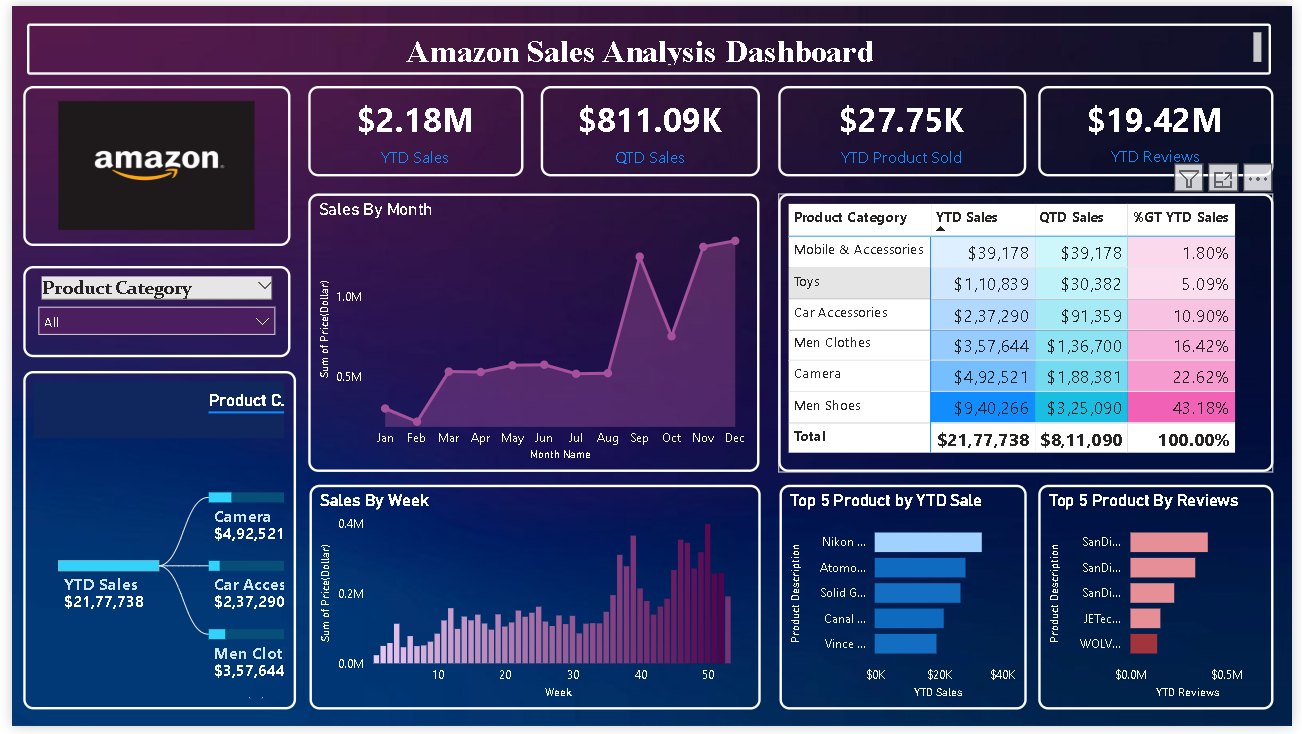

Layout of this report page (visuals, bound fields, positions):
{"tool":"powerbi","page":{"name":"Page 1","canvas":[1280,720],"ordinal":0},"visuals":[{"type":"card","fields":{"Values":["Amazon_Data.YTD Sales"]},"box":[296.4,79.6,215.4,90.6],"z":1000},{"type":"card","fields":{"Values":["Amazon_Data.QTD Sales"]},"box":[528.3,79.6,219.6,90.6],"z":2000},{"type":"card","fields":{"Values":["Amazon_Data.YTD Product Sold"]},"box":[765.7,79.6,248.4,90.6],"z":3000},{"type":"card","fields":{"Values":["Amazon_Data.YTD Reviews"]},"box":[1026.2,80,235,90],"z":4000},{"type":"lineChart","title":"Sales By Month","fields":{"Category":["Date Table.Month Name"],"Y":["Sum(Amazon_Data.Price(Dollar))"]},"box":[296.2,187.5,451.2,278.8],"z":5000},{"type":"columnChart","title":"Sales By Week","fields":{"Category":["Date Table.Week"],"Y":["Sum(Amazon_Data.Price(Dollar))"]},"box":[297.5,478.8,451.2,225],"z":6000},{"type":"pivotTable","fields":{"Rows":["Amazon_Data.Product Category"],"Values":["Amazon_Data.YTD Sales","Amazon_Data.QTD Sales","Divide(Amazon_Data.YTD Sales, ScopedEval(Amazon_Data.YTD Sales, []))"]},"box":[766.2,187.5,495,278.8],"z":7000},{"type":"clusteredBarChart","title":"Top 5 Product by YTD Sale","fields":{"Category":["Amazon_Data.Product Description"],"Y":["Amazon_Data.YTD Sales"]},"box":[767.5,478.8,247.5,225],"z":8000},{"type":"clusteredBarChart","title":"Top 5 Product By Reviews","fields":{"Category":["Amazon_Data.Product Description"],"Y":["Amazon_Data.YTD Reviews"]},"box":[1026.2,478.8,235,225],"z":9000},{"type":"slicer","fields":{"Values":["Amazon_Data.Product Category"]},"box":[11.2,260,267.5,91.2],"z":10001},{"type":"decompositionTreeVisual","title":"Sales By Month","fields":{"Analyze":["Amazon_Data.YTD Sales"],"ExplainBy":["Amazon_Data.Product Category","Date Table.Month Name","Amazon_Data.Number of  reviews"]},"box":[11.2,365,272.5,338.8],"z":10002},{"type":"image","title":"Sales By Month","box":[11.2,80,267.5,160],"z":10004},{"type":"textbox","box":[15,17.5,1243.8,51.2],"z":10005}]}

Visuals, with their boxes in screenshot pixels (x1, y1, x2, y2), scaled from the page's 1280x720 canvas onto the 1302x734 screenshot:
card - Amazon_Data.YTD Sales: {"left": 301, "top": 81, "right": 521, "bottom": 174}
card - Amazon_Data.QTD Sales: {"left": 537, "top": 81, "right": 761, "bottom": 174}
card - Amazon_Data.YTD Product Sold: {"left": 779, "top": 81, "right": 1032, "bottom": 174}
card - Amazon_Data.YTD Reviews: {"left": 1044, "top": 82, "right": 1283, "bottom": 173}
"Sales By Month" lineChart: {"left": 301, "top": 191, "right": 760, "bottom": 475}
"Sales By Week" columnChart: {"left": 303, "top": 488, "right": 762, "bottom": 717}
pivotTable - Amazon_Data.Product Category x Amazon_Data.YTD Sales: {"left": 779, "top": 191, "right": 1283, "bottom": 475}
"Top 5 Product by YTD Sale" clusteredBarChart: {"left": 781, "top": 488, "right": 1032, "bottom": 717}
"Top 5 Product By Reviews" clusteredBarChart: {"left": 1044, "top": 488, "right": 1283, "bottom": 717}
slicer - Amazon_Data.Product Category: {"left": 11, "top": 265, "right": 283, "bottom": 358}
"Sales By Month" decompositionTreeVisual: {"left": 11, "top": 372, "right": 289, "bottom": 717}
"Sales By Month" image: {"left": 11, "top": 82, "right": 283, "bottom": 245}
textbox: {"left": 15, "top": 18, "right": 1280, "bottom": 70}
